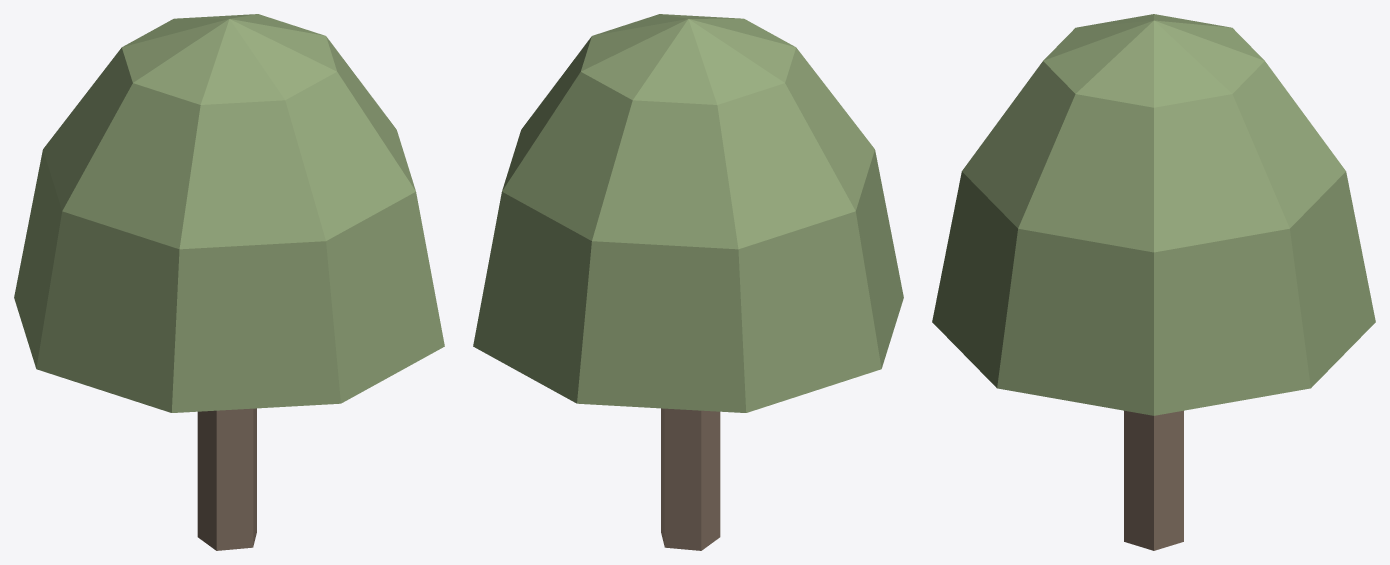
Rendered from tree_broadleaf.glb.
3 renders of one model, left to right at view 1: azimuth 30°, elevation 25°; view 2: azimuth 150°, elevation 25°; view 3: azimuth 270°, elevation 25°, orthographic.
Visible parts, largest first — view 1: tree_broadleaf; view 2: tree_broadleaf; view 3: tree_broadleaf.
Boxes of the visible parts, x1=… form: tree_broadleaf: x1=14, y1=14, x2=444, y2=550; tree_broadleaf: x1=473, y1=14, x2=903, y2=550; tree_broadleaf: x1=932, y1=14, x2=1375, y2=550.
Bounding box in the file's own units: 0.84 × 1.08 × 0.84.
